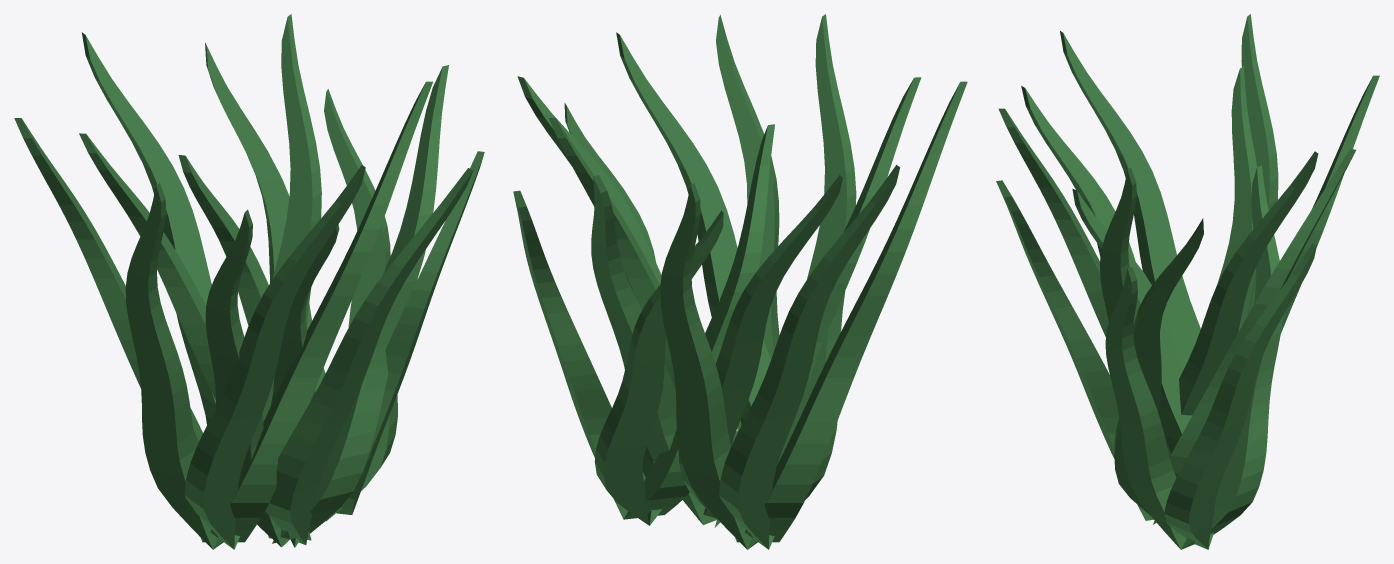
Rendered from Kelp4.fbx.
3 views of the same model, side by side, from view 1: azimuth 30°, elevation 25°; view 2: azimuth 150°, elevation 25°; view 3: azimuth 270°, elevation 25° (orthographic). The views are drawn at different scales.
Parts seen in each view (by area): view 1: Kelp_GreenMat; view 2: Kelp_GreenMat; view 3: Kelp_GreenMat.
Part boxes in pixels (x1,y1,x2,y2): Kelp_GreenMat: [14, 14, 484, 549]; Kelp_GreenMat: [513, 14, 967, 549]; Kelp_GreenMat: [996, 14, 1379, 549].
Bounding box in the file's own units: 774 × 800 × 691.
